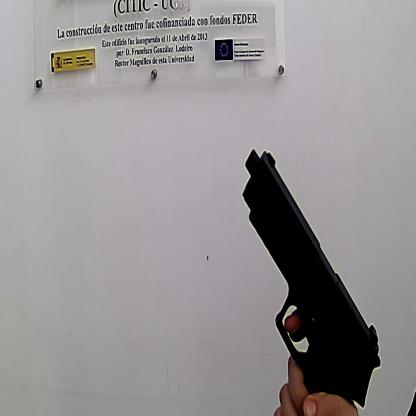gun: (241, 145, 382, 415)
